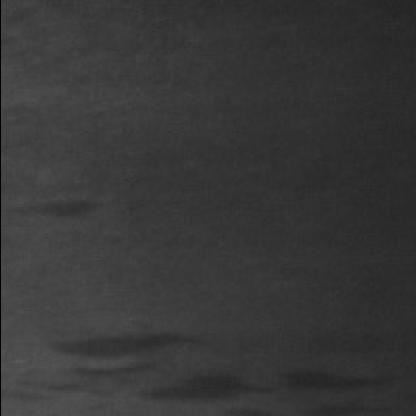inclusion: (27, 331, 399, 414), (15, 179, 107, 229)
